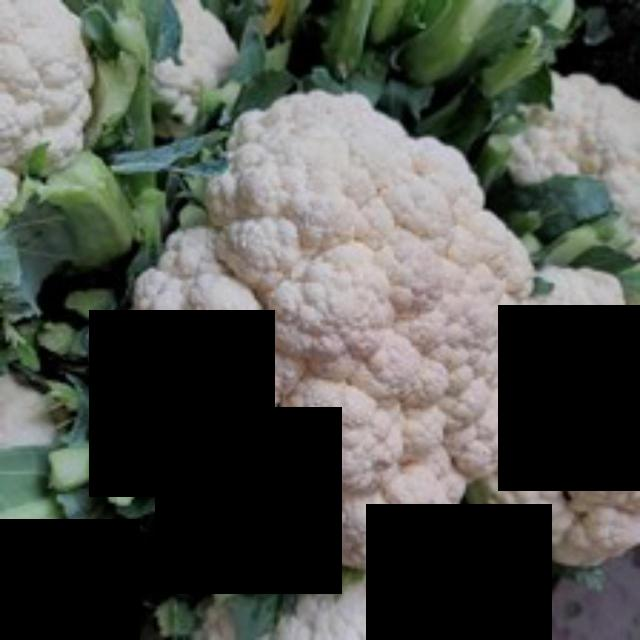cauliflower: (115, 69, 570, 590)
